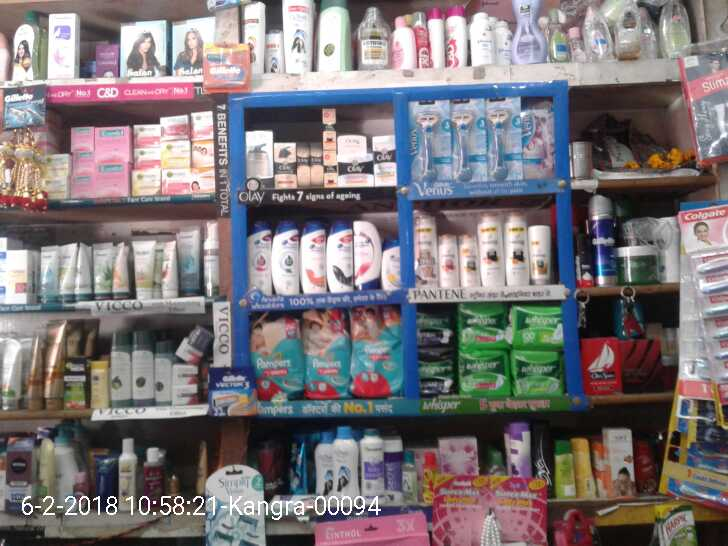gillete: (592, 197, 618, 285), (1, 87, 48, 129), (578, 237, 592, 285)
venus: (407, 99, 452, 181), (486, 98, 523, 177), (453, 98, 486, 181), (523, 108, 554, 177)
